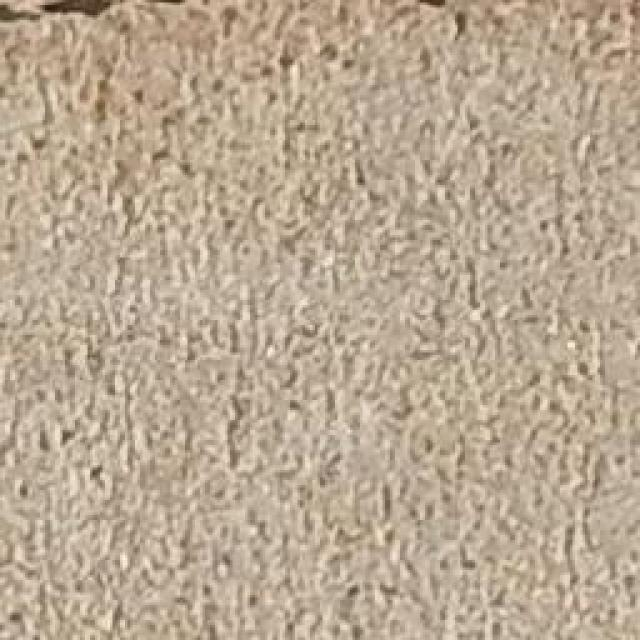concrete-crack: (0, 1, 125, 29)
